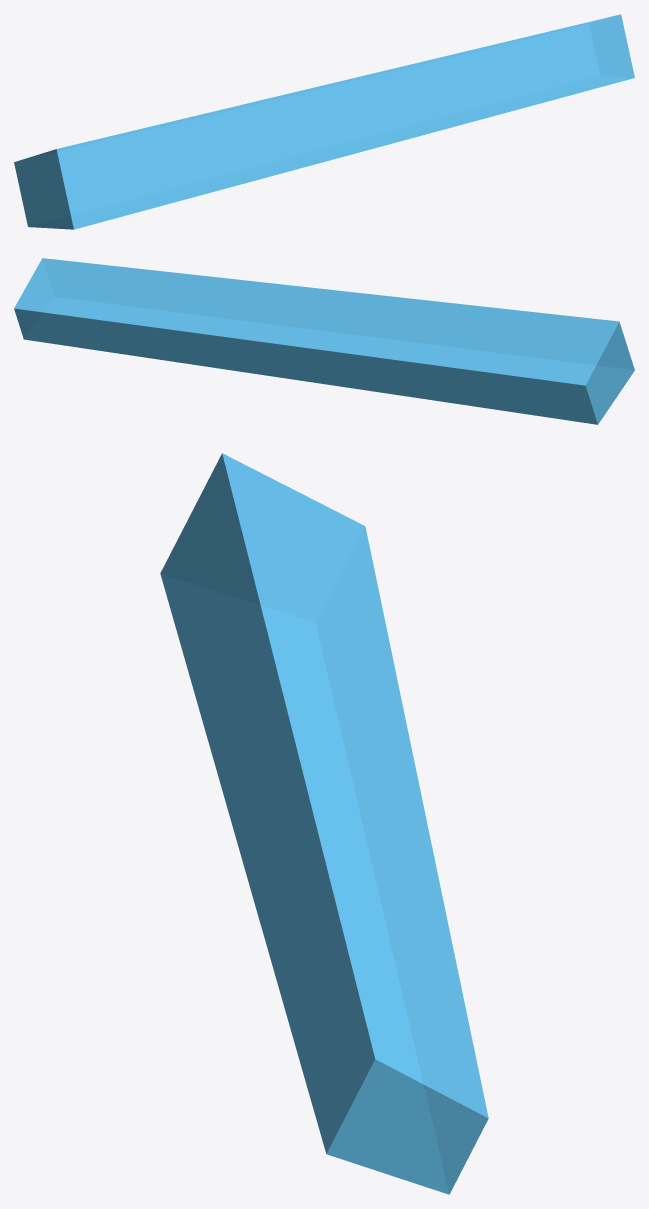
Rendered from Event_420604493_HErechit_13.fbx.
3 renders of one model, top to bottom at view 1: azimuth 30°, elevation 25°; view 2: azimuth 150°, elevation 25°; view 3: azimuth 270°, elevation 25°, orthographic. The views are drawn at different scales.
Visible parts, largest first — view 1: Model; view 2: Model; view 3: Model.
Part boxes in pixels (<box>): Model: <box>14,14,634,229</box>; Model: <box>14,258,634,424</box>; Model: <box>160,453,488,1194</box>.
Bounding box in the file's own units: 2.72 × 0.5179 × 0.7145.
